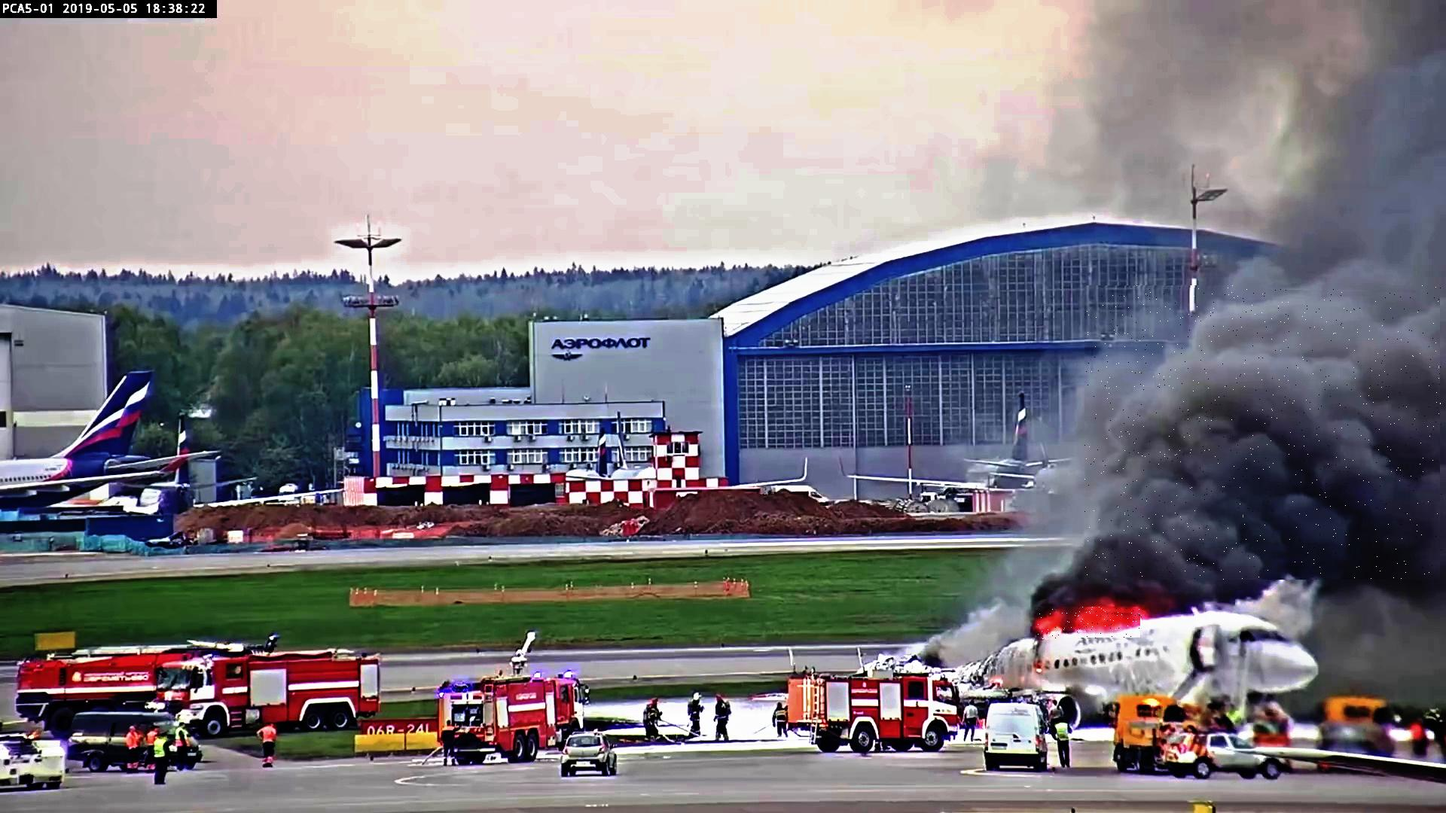fire: (1035, 607, 1142, 640)
smoke: (1085, 285, 1442, 580)
